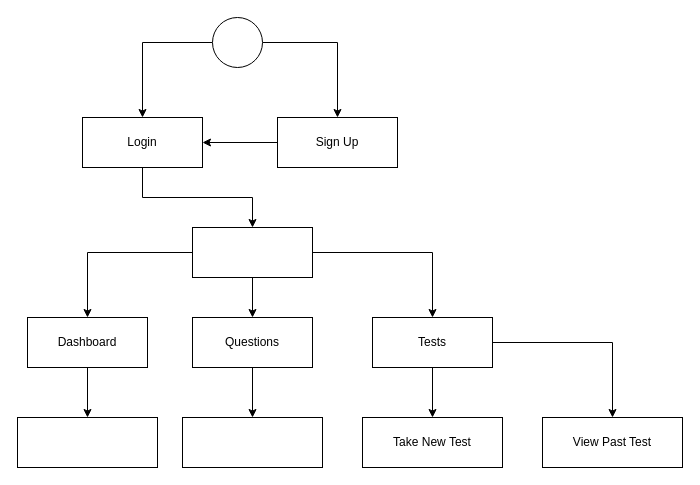
The diagram is 700 pixels wide and 485 high, and some of its shapes have lost their labels. Here are the shapes that lost their labels. From the top down, the centre of each, then its label:
the point at 237,42: Start
the point at 252,252: Views
the point at 87,442: View Recent Completed Test
the point at 252,442: Create New Question
